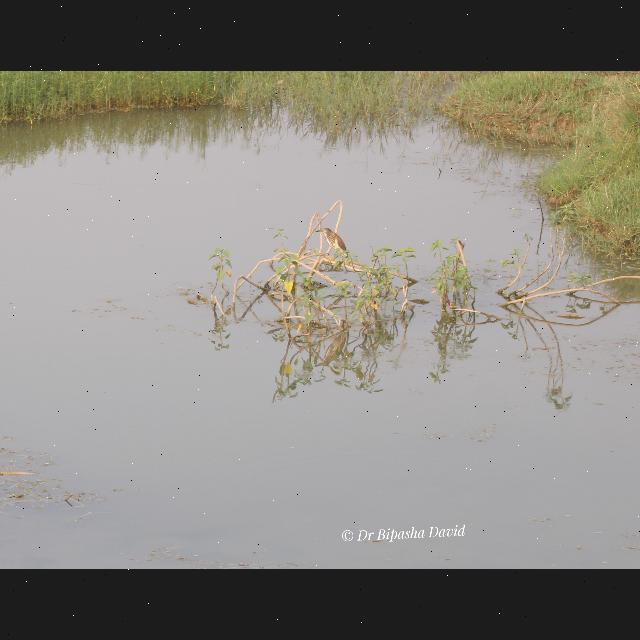heron: (312, 221, 348, 265)
